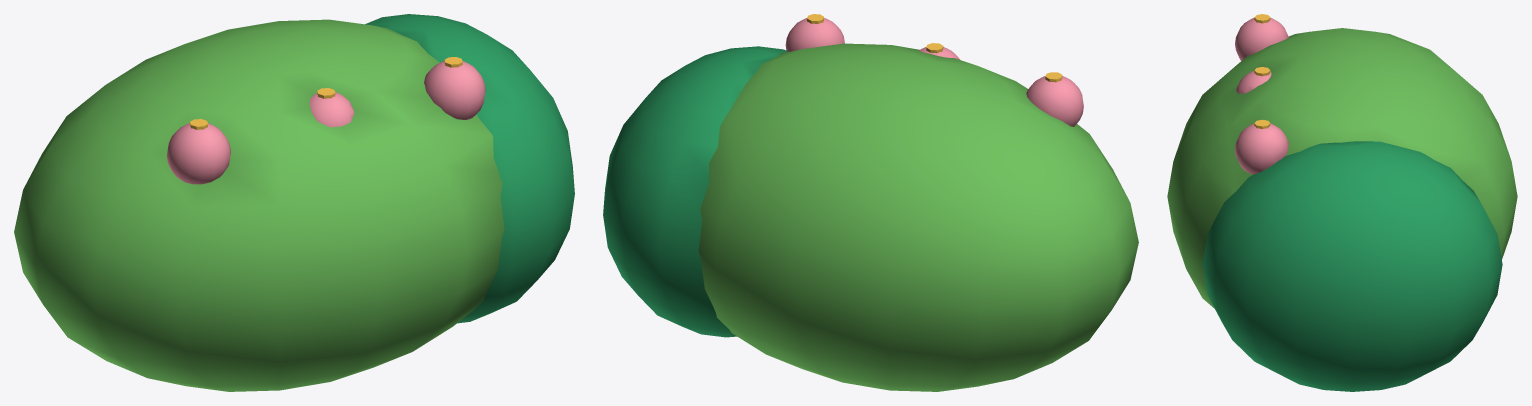
Rendered from shrub.glb.
3 renders of one model, left to right at view 1: azimuth 30°, elevation 25°; view 2: azimuth 150°, elevation 25°; view 3: azimuth 270°, elevation 25°, orthographic. The views are drawn at different scales.
Parts seen in each view (by area): view 1: hedge, hedge lobe, bloom, flower heart; view 2: hedge, hedge lobe, bloom, flower heart; view 3: hedge lobe, hedge, bloom, flower heart.
Boxes of the visible parts, box(x1,y1,x2,y2) form: hedge: box(14, 19, 504, 391); hedge lobe: box(365, 14, 574, 323); bloom: box(167, 61, 485, 184); flower heart: box(190, 57, 462, 129); hedge: box(698, 43, 1138, 391); hedge lobe: box(603, 46, 787, 337); bloom: box(785, 18, 1083, 126); flower heart: box(807, 14, 1062, 82); hedge lobe: box(1202, 141, 1502, 391); hedge: box(1167, 28, 1517, 308); bloom: box(1235, 17, 1288, 174); flower heart: box(1254, 14, 1270, 129).
Size of the model in its own units: 1.02 by 0.6 by 0.7.
